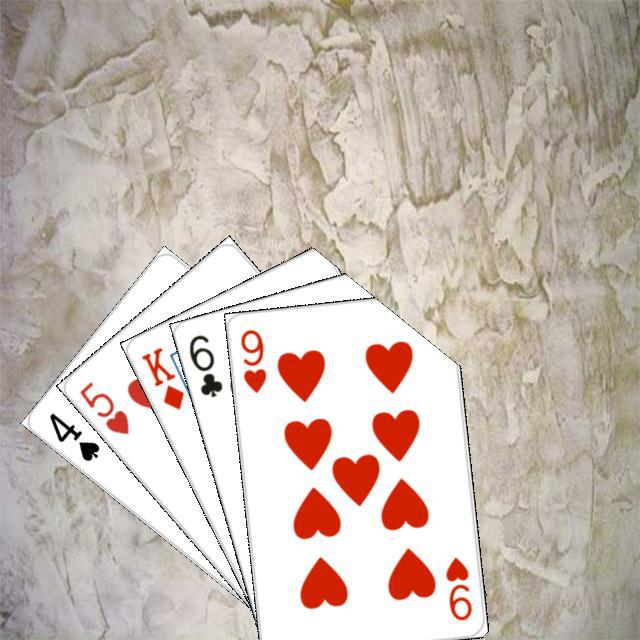4s: (44, 407, 102, 464)
5h: (74, 376, 131, 437)
6c: (184, 329, 225, 399)
9h: (440, 552, 474, 623), (235, 324, 268, 395)
Kd: (136, 342, 186, 412)
